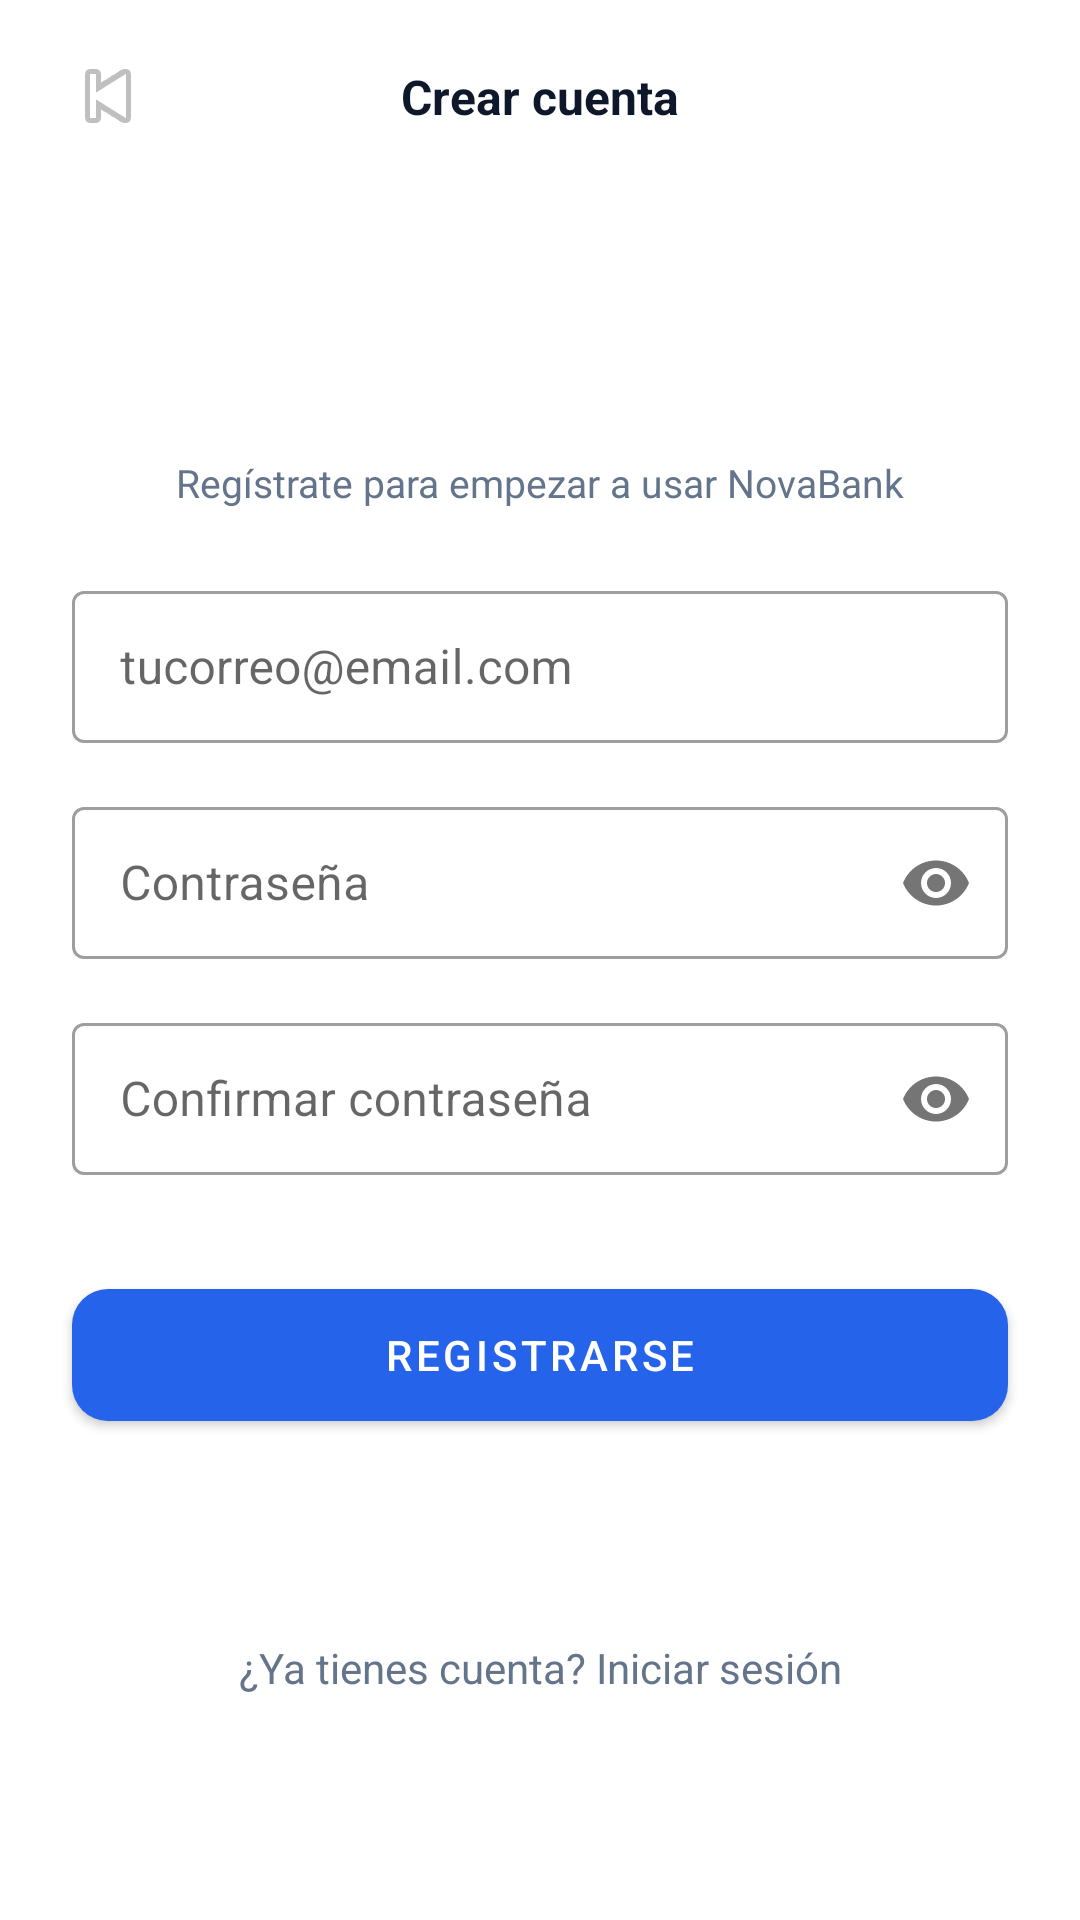

Icon click points for this 1080w x 1920h phone screenshot, format [x,y]:
Regresar: [108,96]
